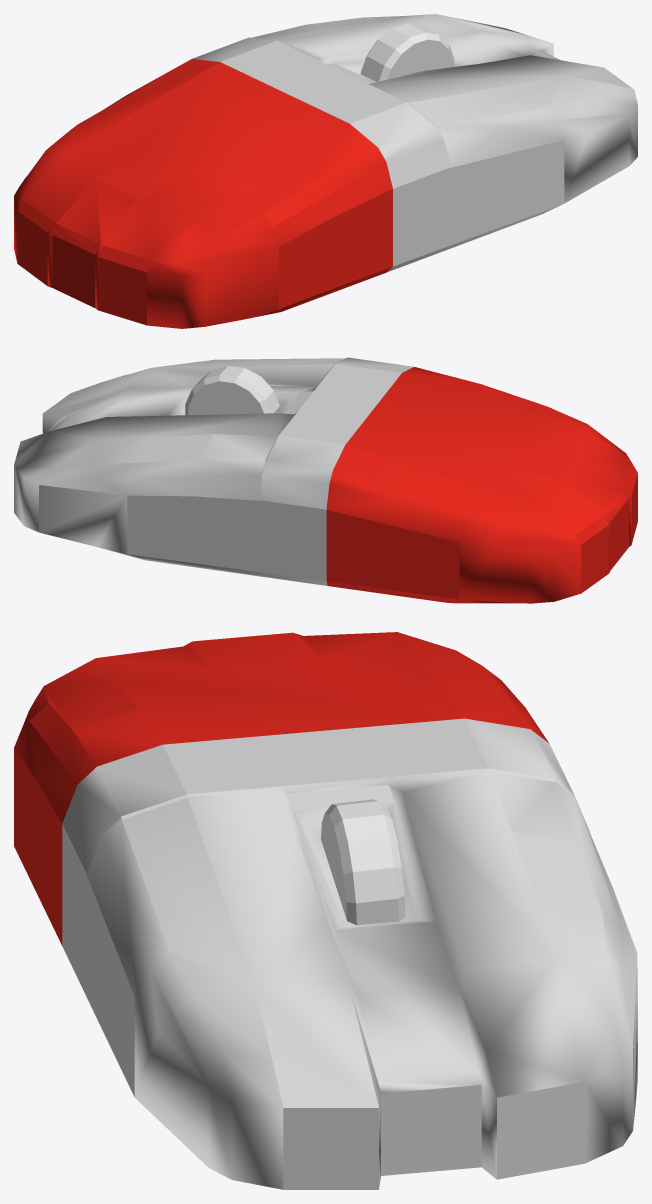
Rendered from mouse.glb.
3 renders of one model, top to bottom at view 1: azimuth 30°, elevation 25°; view 2: azimuth 150°, elevation 25°; view 3: azimuth 270°, elevation 25°, orthographic. The views are drawn at different scales.
Parts seen in each view (by area): view 1: Mouse_Back, Mouse_Front, Scroll; view 2: Mouse_Front, Mouse_Back, Scroll; view 3: Mouse_Front, Mouse_Back, Scroll.
Boxes of the visible parts, x1,y1,x2,y2 form: Mouse_Back: (14, 59, 392, 328); Mouse_Front: (192, 14, 637, 272); Scroll: (360, 23, 454, 81); Mouse_Front: (14, 357, 413, 585); Mouse_Back: (326, 367, 637, 603); Scroll: (185, 366, 279, 415); Mouse_Front: (62, 718, 637, 1189); Mouse_Back: (14, 632, 548, 945); Scroll: (321, 799, 405, 925).
Bounding box in the file's own units: 0.2151 × 0.0533 × 0.1256.
